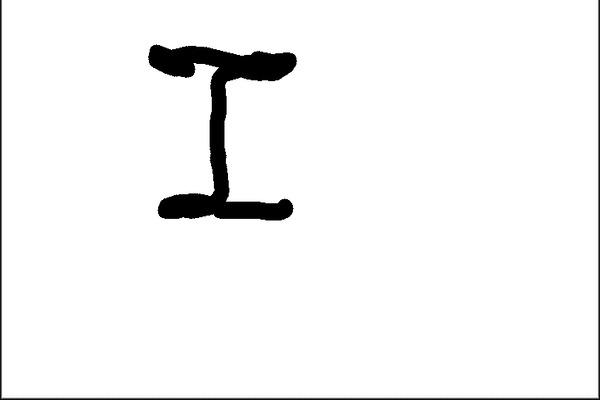i: (138, 36, 310, 239)
